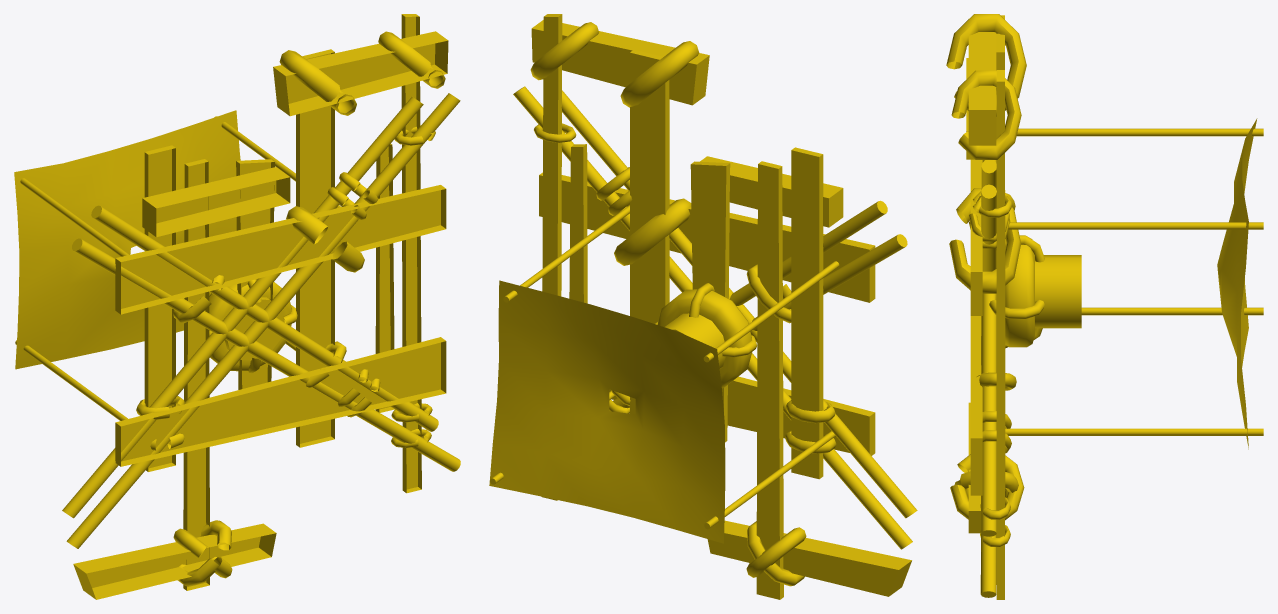
The model's file is Rain_Water_Test.fbx.
3 renders of one model, left to right at view 1: azimuth 30°, elevation 25°; view 2: azimuth 150°, elevation 25°; view 3: azimuth 270°, elevation 25°, orthographic. The views are drawn at different scales.
Parts seen in each view (by area): view 1: Rain_Building; view 2: Rain_Building; view 3: Rain_Building.
Part boxes in pixels (x1,y1,x2,y2): Rain_Building: [14, 14, 460, 599]; Rain_Building: [489, 14, 917, 599]; Rain_Building: [946, 14, 1263, 599].
Bounding box in the file's own units: 18.08 × 22.72 × 11.48.
